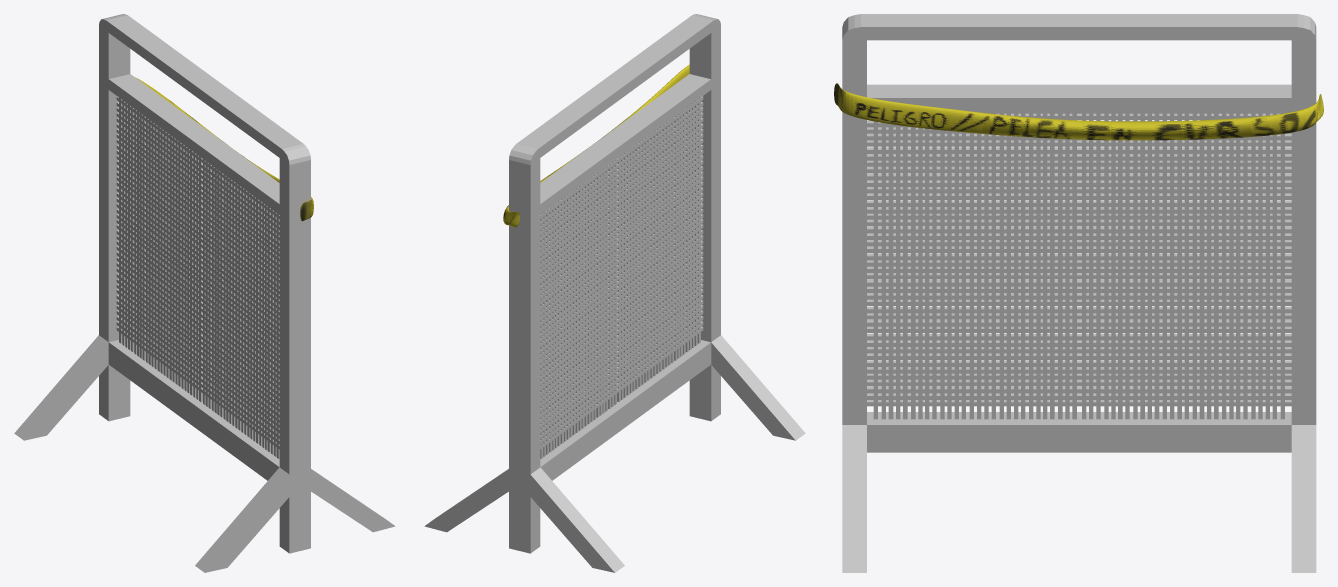
The model's file is valla anti disturbios.fbx.
3 views of the same model, side by side, from view 1: azimuth 30°, elevation 25°; view 2: azimuth 150°, elevation 25°; view 3: azimuth 270°, elevation 25° (orthographic). The views are drawn at different scales.
Parts seen in each view (by area): view 1: Cube, Cube.001; view 2: Cube, Cube.001; view 3: Cube, Cube.001.
Boxes of the visible parts, x1,y1,x2,y2 form: Cube: [14, 14, 395, 572]; Cube.001: [135, 77, 313, 221]; Cube: [424, 14, 805, 572]; Cube.001: [503, 64, 689, 227]; Cube: [842, 14, 1316, 572]; Cube.001: [834, 83, 1323, 140].
Size of the model in its own units: 159 by 318 by 285.
